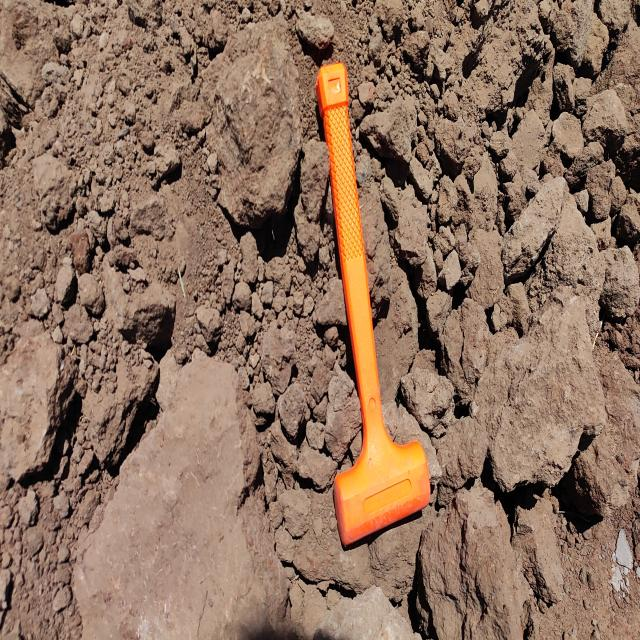Orange_hammer: (314, 61, 431, 550)
